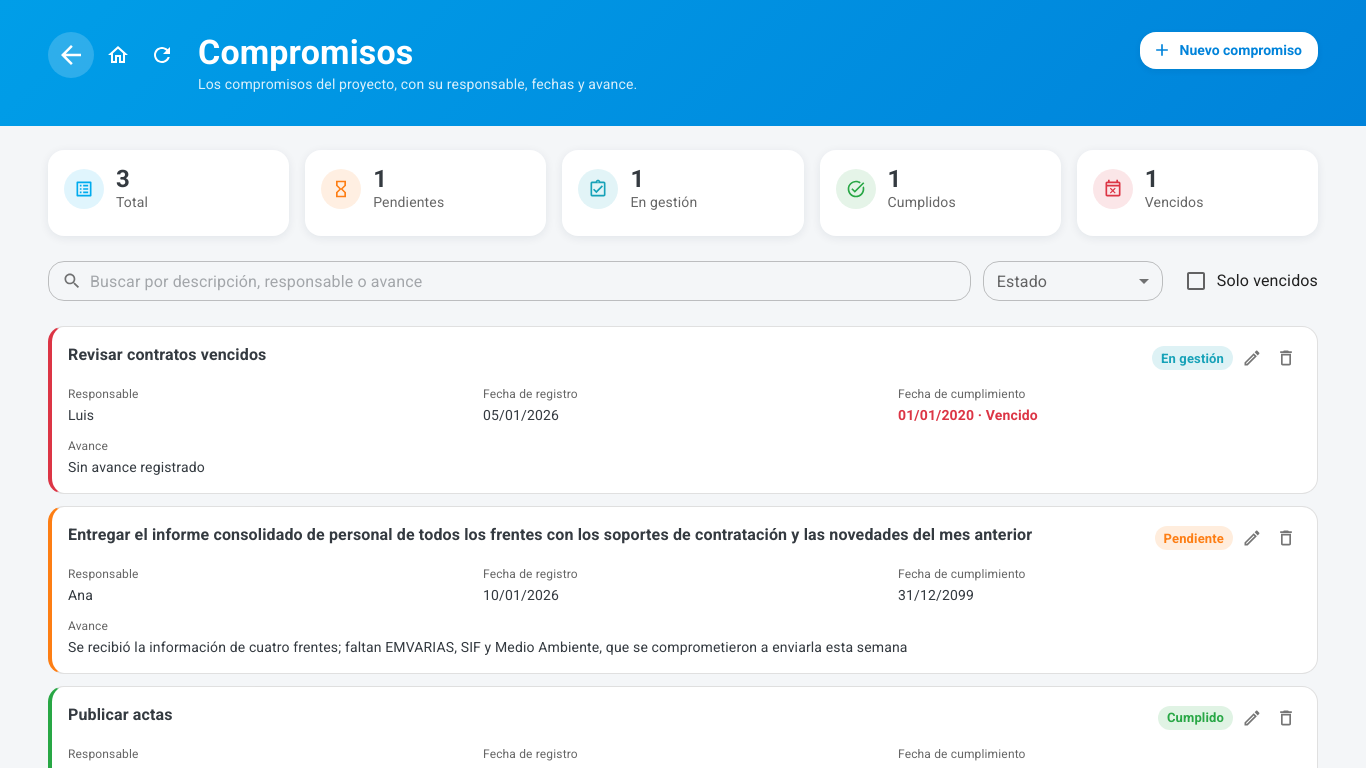
Test case: CompromisosPage › ADMIN puede eliminar con confirmación
Click the button named "Eliminar compromiso: Publicar actas": (1286, 718) [1271,703,1301,733]
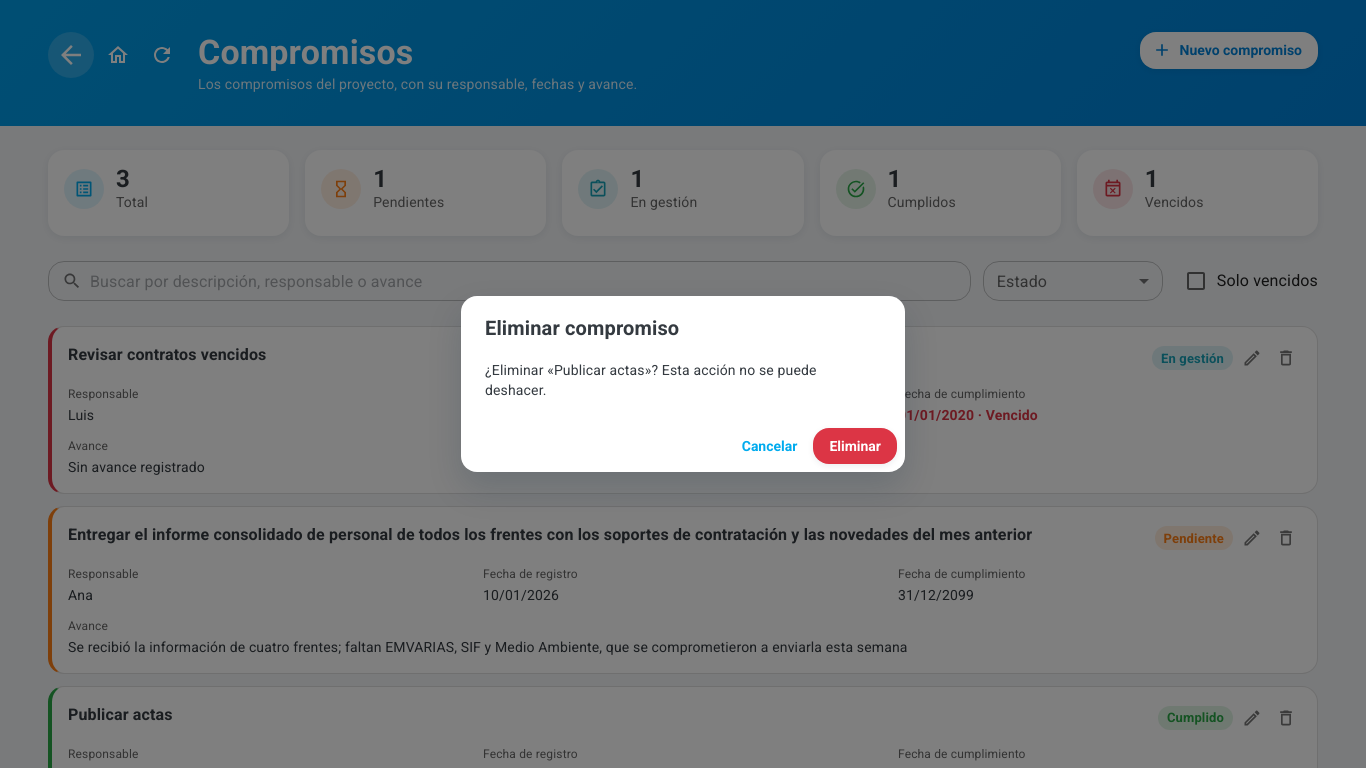
Expected: the text "Esta acción no se puede deshacer" is shown, [485,362,817,398]
